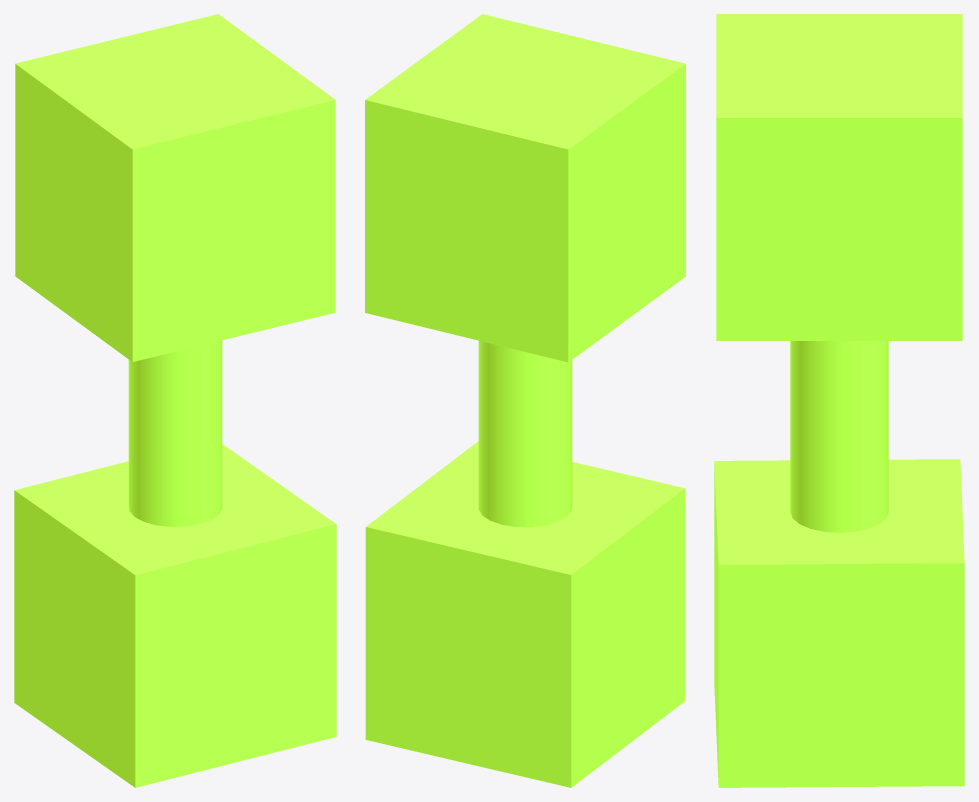
File: robot_dumbbell_green.dae
3 views of the same model, side by side, from view 1: azimuth 30°, elevation 25°; view 2: azimuth 150°, elevation 25°; view 3: azimuth 270°, elevation 25° (orthographic). The views are drawn at different scales.
Parts seen in each view (by area): view 1: dumbell; view 2: dumbell; view 3: dumbell.
Part boxes in pixels (x1,y1,x2,y2): dumbell: (14, 14, 336, 787); dumbell: (365, 14, 685, 787); dumbell: (714, 14, 964, 787).
Size of the model in its own units: 5.09 by 15 by 5.09.
